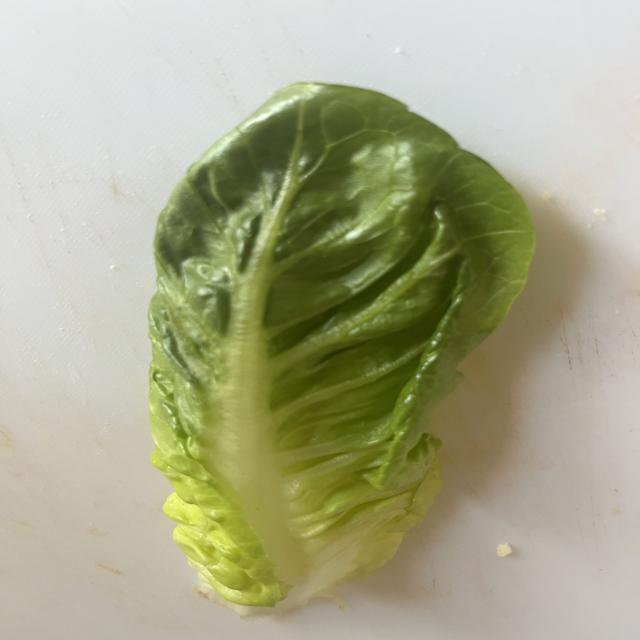lettuce: (149, 83, 535, 614)
